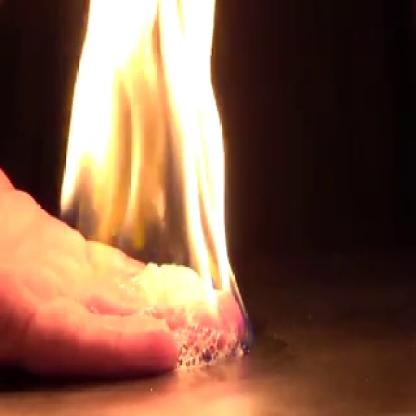fire: (48, 0, 245, 344)
